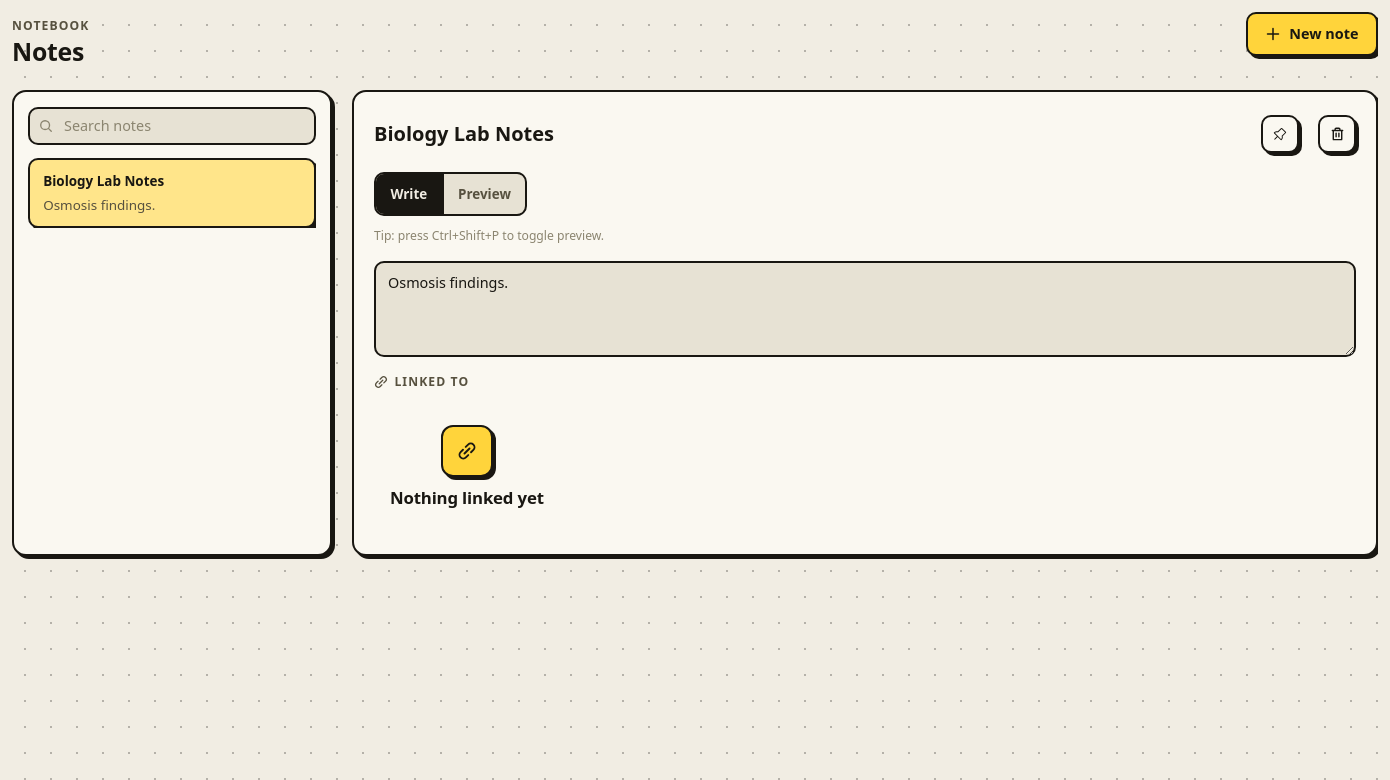
Test: Feature 14 Adversarial: Zero-state edge cases across all 8 views › 5. NotesView zero-state, search filter to 0, clearing & detail empty state › filters notes to 0 items, shows 'No matches' EmptyState, and clears search via CTA
Type "calculus" into the field labelled "Search notes".
click(172, 126); type("calculus")  # box [28,107,316,145]
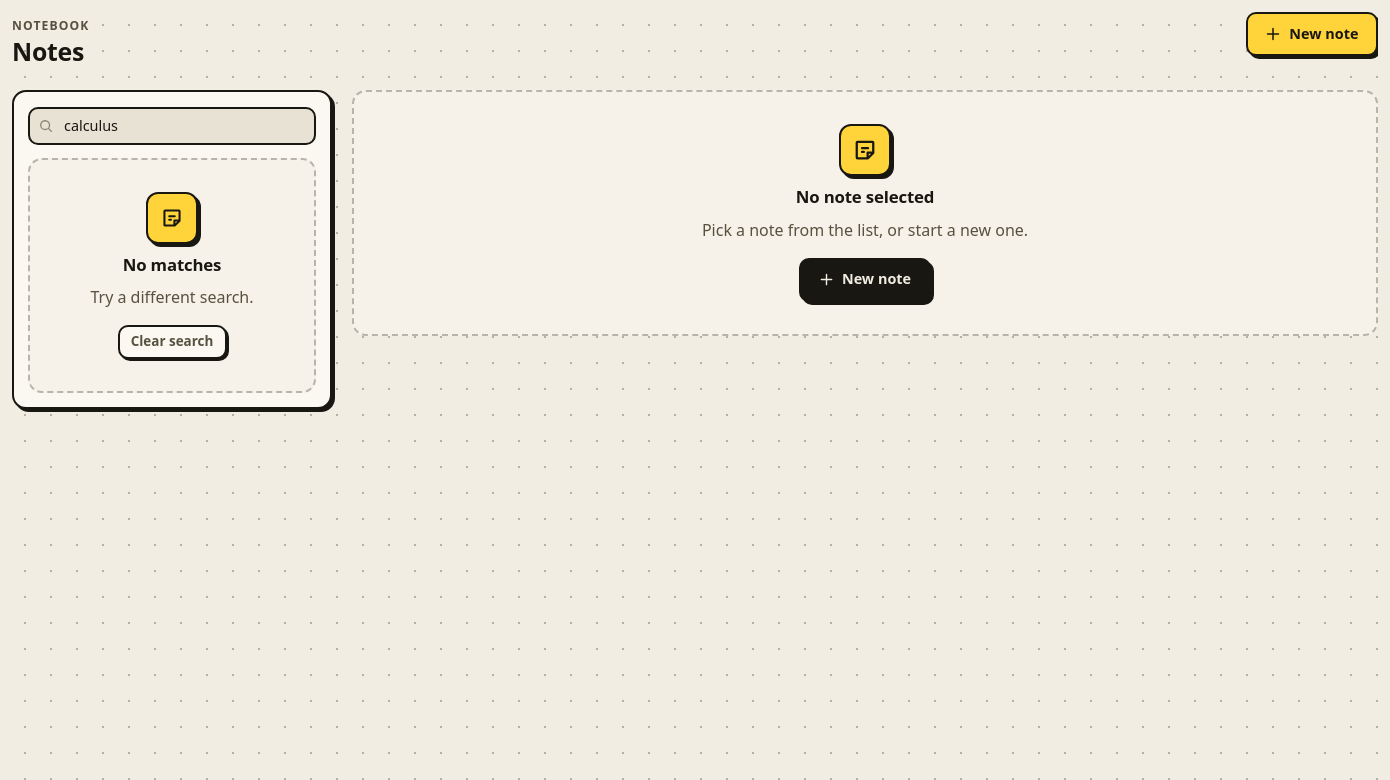
Now the heading "No matches" is shown, box [123,252,221,277]
Now the text "Try a different search." is shown, box [90,285,254,309]
Click the button "Clear search".
click(172, 342)  # box [118,325,226,359]
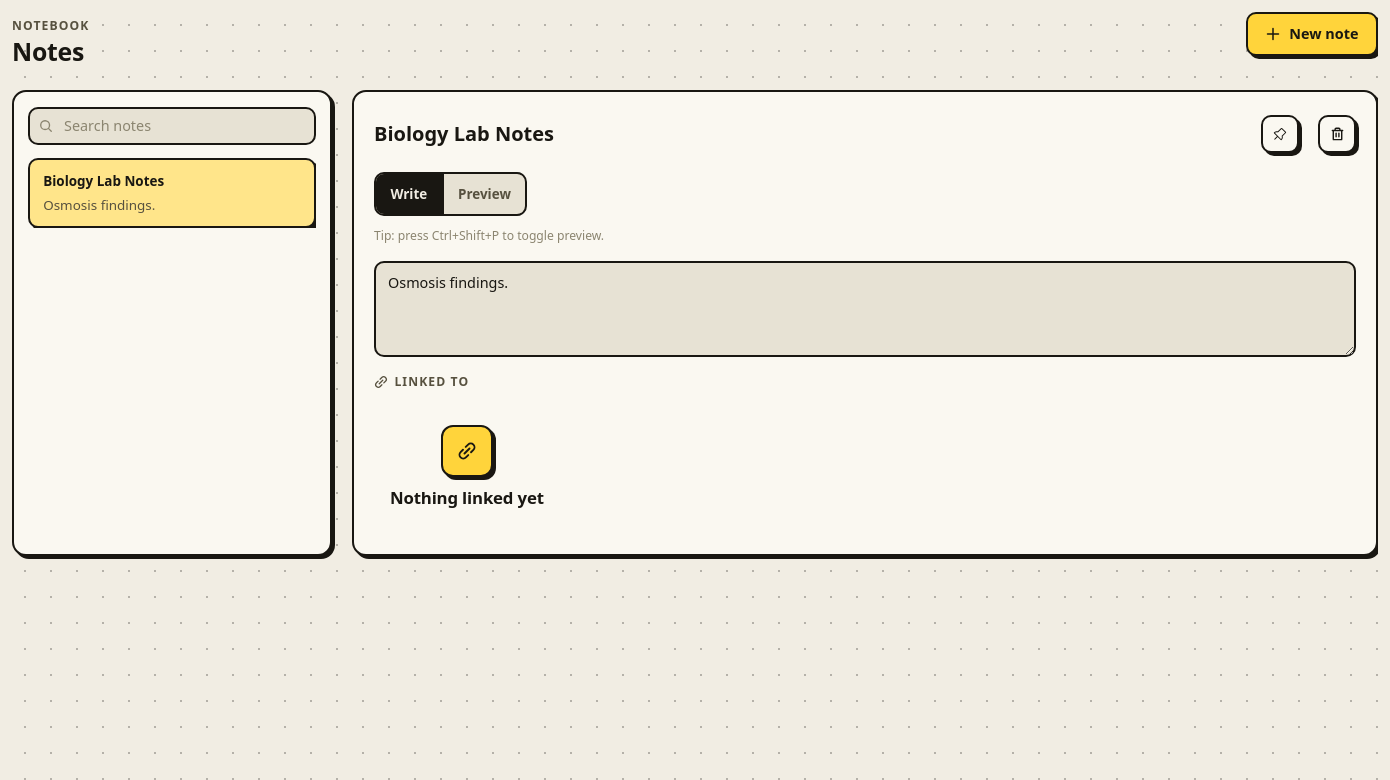
Now the field labelled "Search notes" is empty, box [28,107,316,145]
Now the text "Biology Lab Notes" is shown, box [43,171,164,191]
